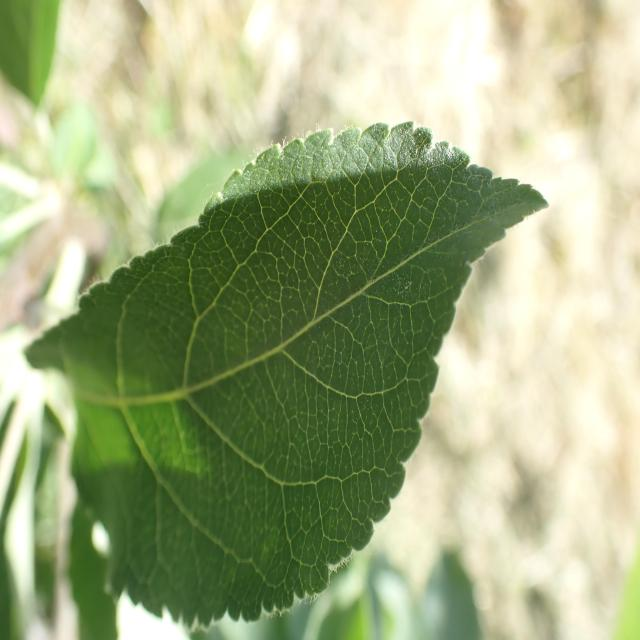healthy: (22, 120, 550, 633)
